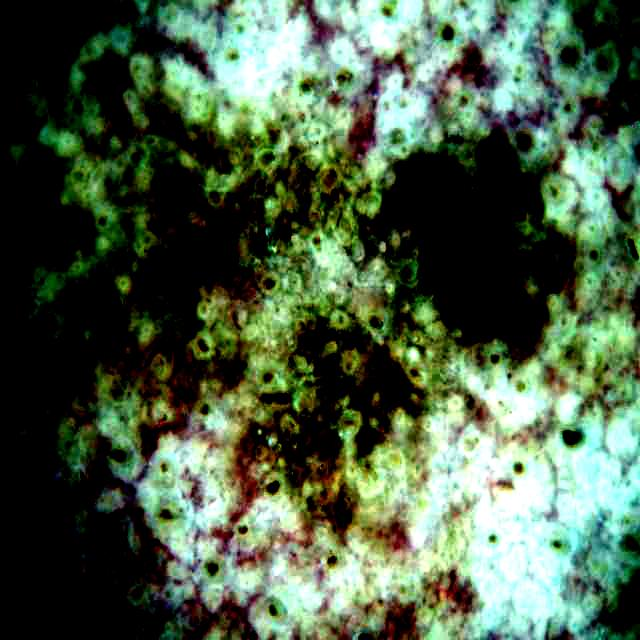AKIEC: (95, 129, 560, 528)
